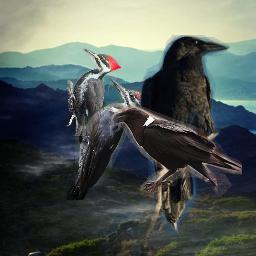Crow: (140, 35, 230, 236), (111, 105, 242, 196)
Woodpecker: (66, 78, 149, 200), (67, 47, 121, 136)
